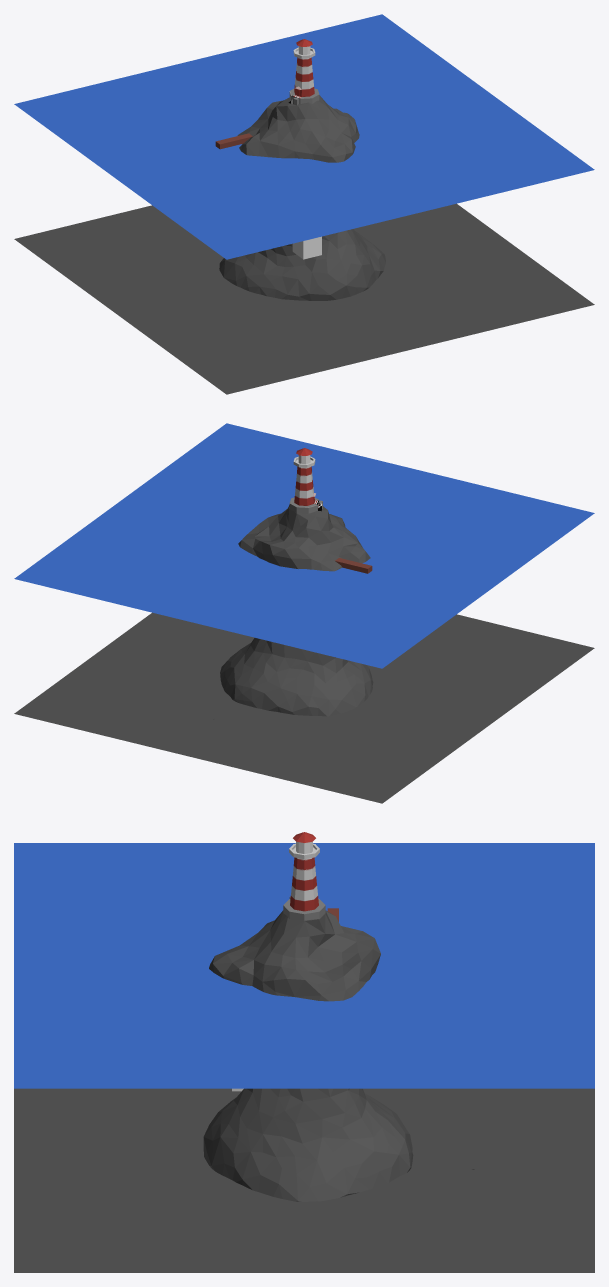
Rendered from lighthouse_site1.1.glb.
3 renders of one model, top to bottom at view 1: azimuth 30°, elevation 25°; view 2: azimuth 150°, elevation 25°; view 3: azimuth 270°, elevation 25°, orthographic. The views are drawn at different scales.
Parts seen in each view (by area): view 1: Plane.002, Plane.003, Icosphere, lighthouse, Cube.001; view 2: Plane.002, Plane.003, Icosphere, lighthouse; view 3: Plane.002, Plane.003, Icosphere, lighthouse.
Boxes of the visible parts, left/top/right/bottom form: Plane.002: left=14, top=14, right=594, bottom=259; Plane.003: left=14, top=203, right=594, bottom=394; Icosphere: left=219, top=95, right=385, bottom=300; lighthouse: left=288, top=39, right=319, bottom=105; Cube.001: left=292, top=236, right=321, bottom=259; Plane.002: left=14, top=423, right=594, bottom=668; Plane.003: left=14, top=612, right=594, bottom=803; Icosphere: left=220, top=505, right=373, bottom=716; lighthouse: left=289, top=448, right=322, bottom=513; Plane.002: left=14, top=843, right=594, bottom=1088; Plane.003: left=14, top=1088, right=594, bottom=1272; Icosphere: left=203, top=910, right=413, bottom=1201; lighthouse: left=283, top=832, right=325, bottom=920.
Size of the model in its own units: 40 by 28.35 by 40.
5 materials, 2 textured.
